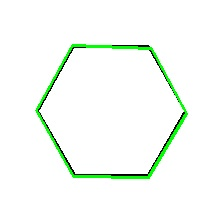line_segment: (36, 44, 187, 178)
